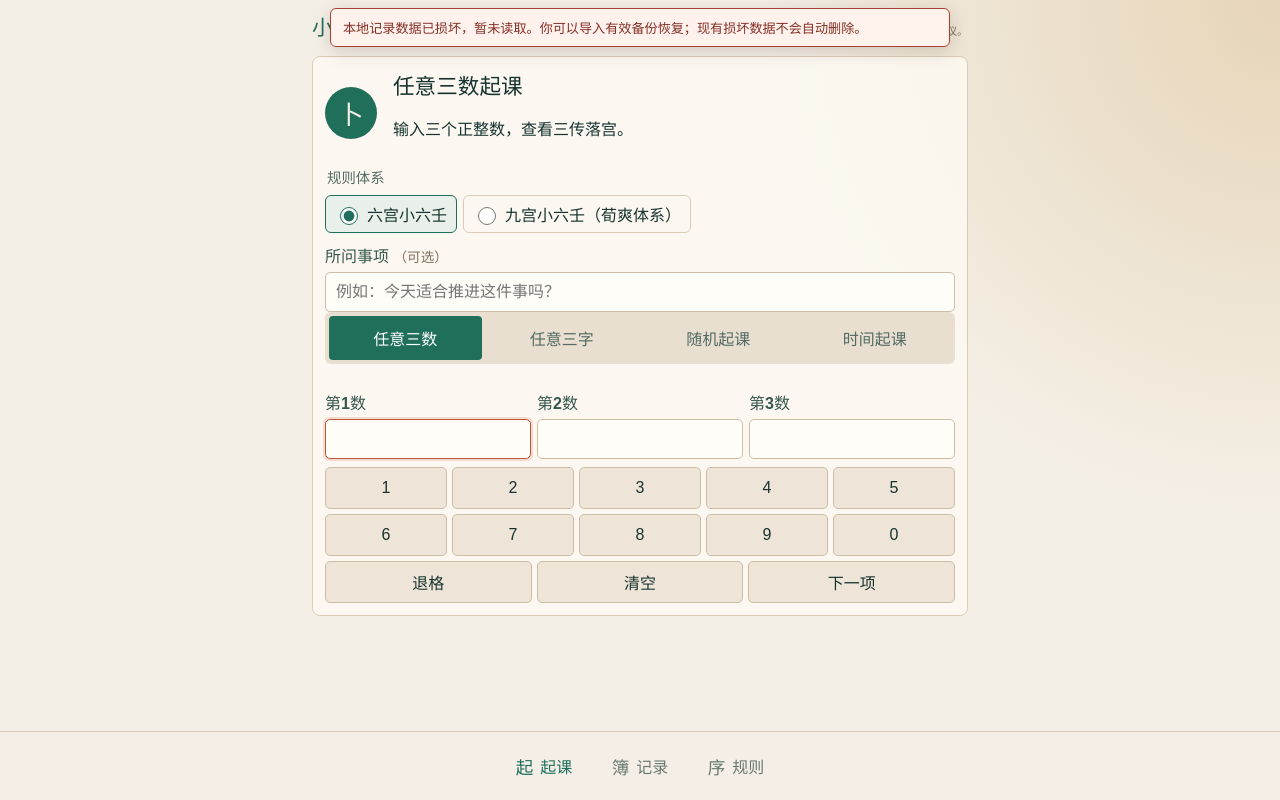
Test: 三数起课应用流程 › shows corrupt local storage as a recoverable records error instead of blanking the app
Click the button "簿 记录".
click(640, 766)  # box left=596, top=742, right=684, bottom=790
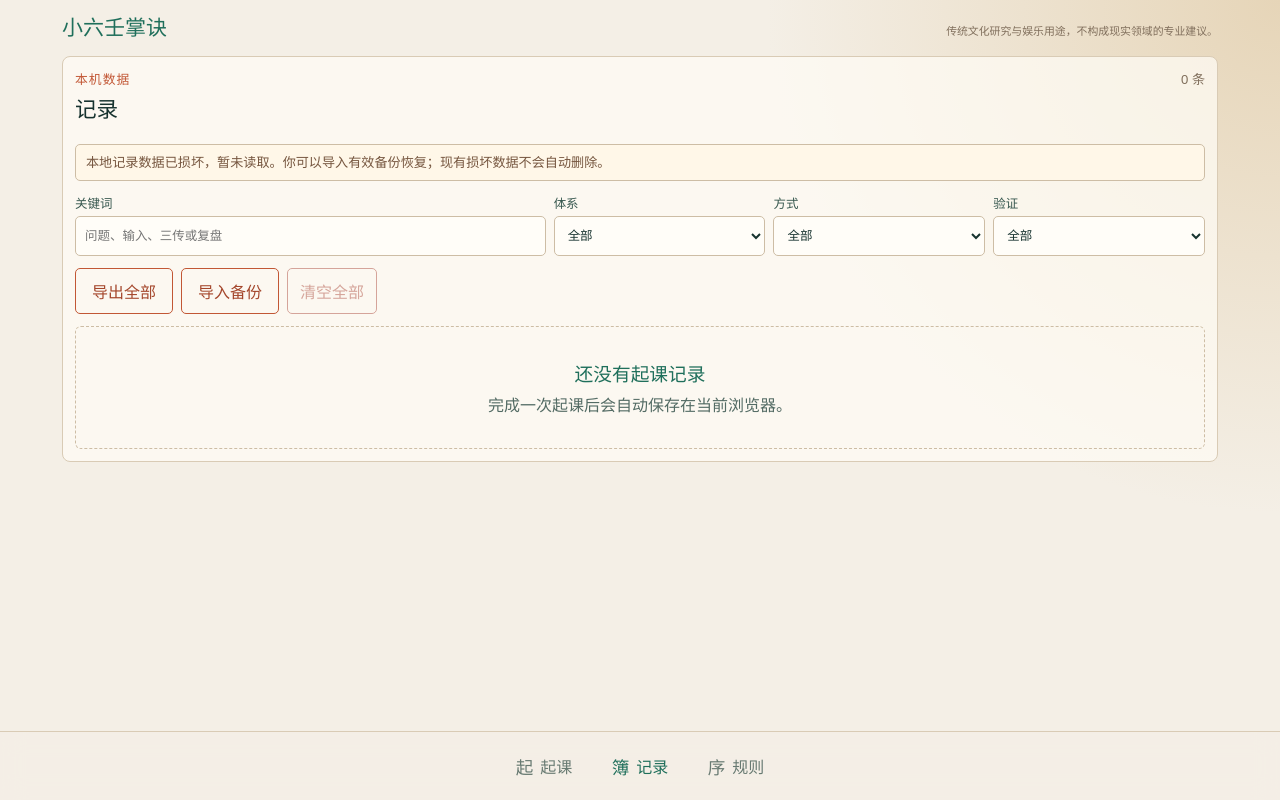
Expected: the message shows "本地记录数据已损坏", left=86, top=155, right=610, bottom=170
Expected: the heading "记录" is shown, left=75, top=98, right=118, bottom=122
